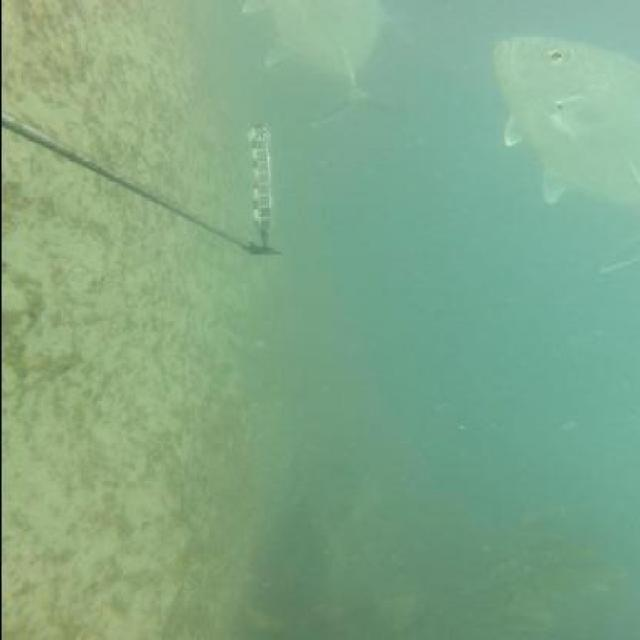Caranx: (486, 35, 636, 276), (234, 2, 417, 128)
